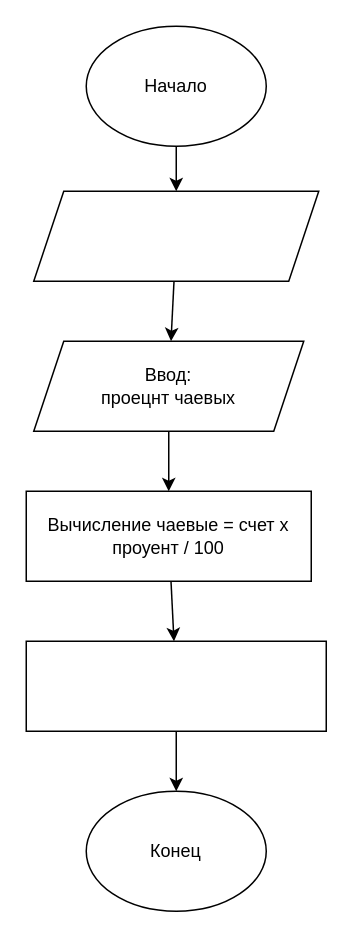
This 353x938 diagram has some shape labels left out. The box of each missing label's shape, as (x1, y1, x2, y2) in pixels:
Ввод: сумма счета: (32, 190, 319, 281)
Вычисление: итог = счет + чаевые: (25, 640, 326, 731)
